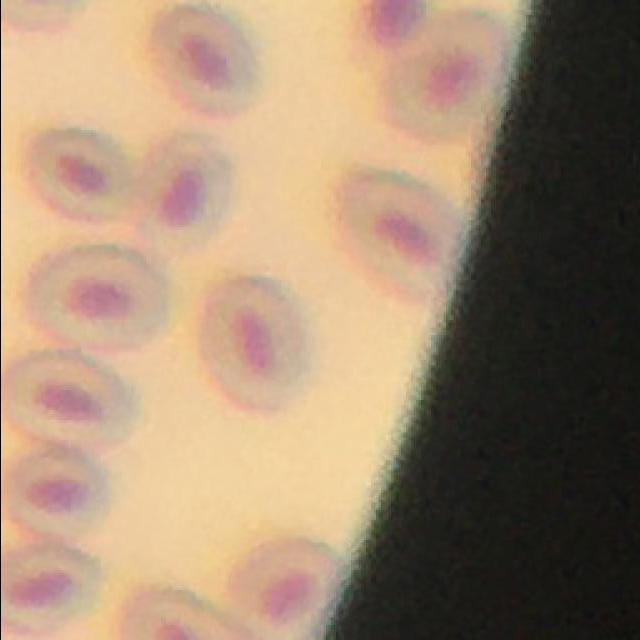RBC: (18, 244, 172, 355), (336, 166, 460, 303), (198, 276, 317, 418), (382, 9, 507, 144), (2, 351, 139, 451), (137, 131, 239, 262), (146, 6, 262, 120), (226, 536, 340, 633), (24, 128, 134, 224), (2, 448, 116, 539), (0, 541, 106, 631), (116, 586, 252, 640)
WBC: (367, 0, 425, 50)
